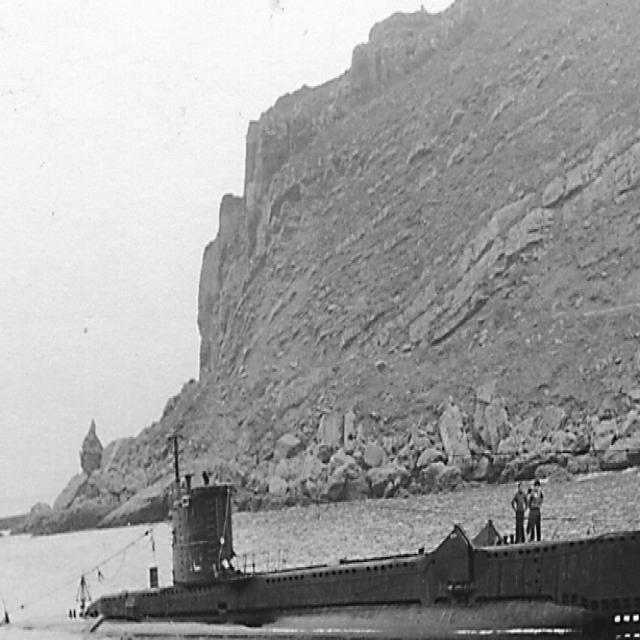submarine: (77, 486, 640, 640)
